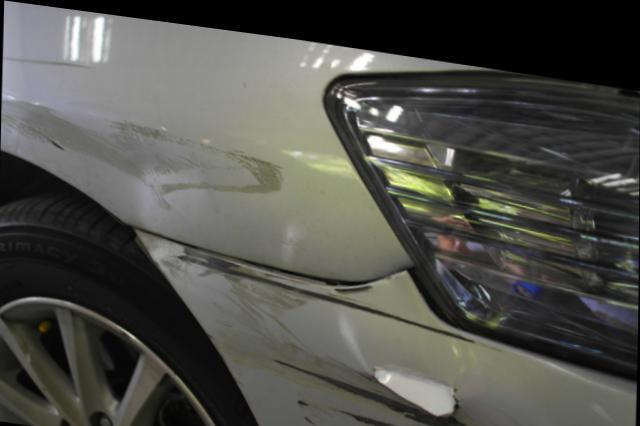crack: (369, 353, 460, 406)
dent: (0, 98, 200, 227)
scratch: (159, 238, 511, 426), (106, 115, 293, 192)
